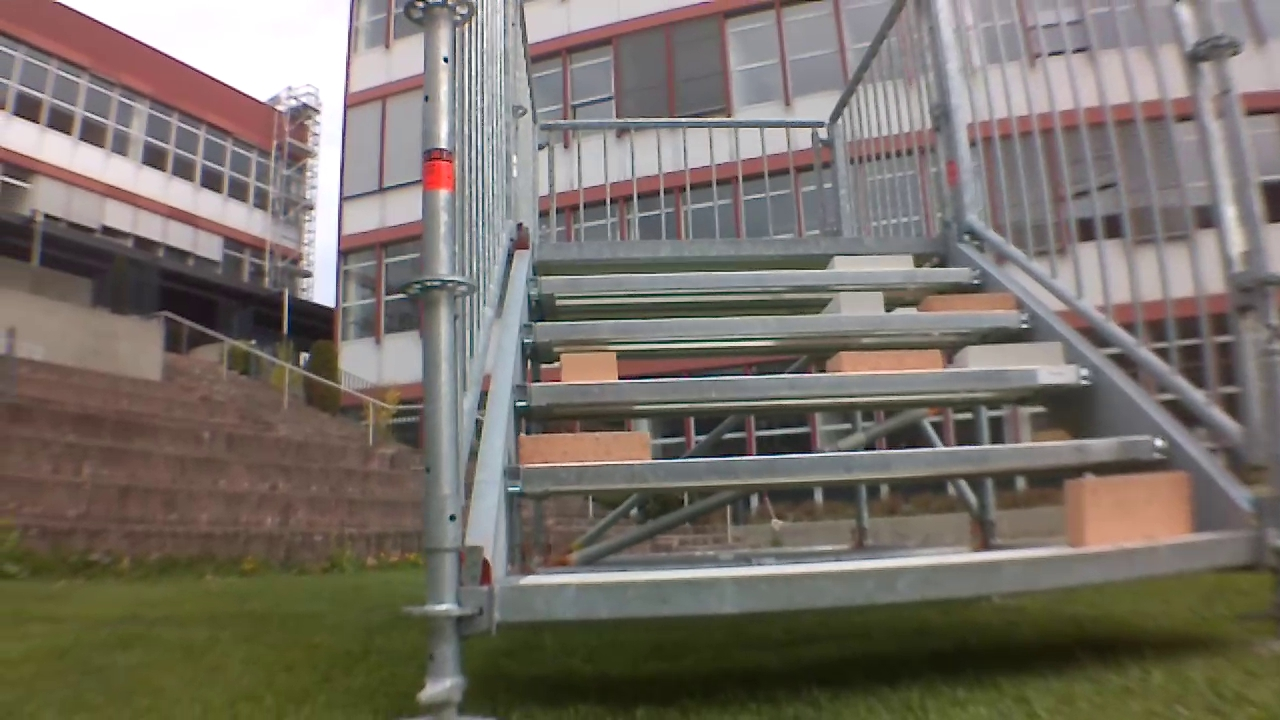brick: (1060, 467, 1195, 555), (518, 431, 664, 466), (956, 340, 1066, 372), (920, 288, 1023, 315), (558, 344, 620, 386), (830, 349, 943, 371), (824, 249, 920, 274), (829, 290, 882, 313)
edge: (500, 531, 1261, 633), (508, 426, 1176, 500), (512, 360, 1094, 412), (514, 310, 1038, 348), (517, 262, 987, 297), (533, 234, 951, 262)
stairs: (437, 0, 1280, 704)
steps: (480, 228, 1254, 643)
